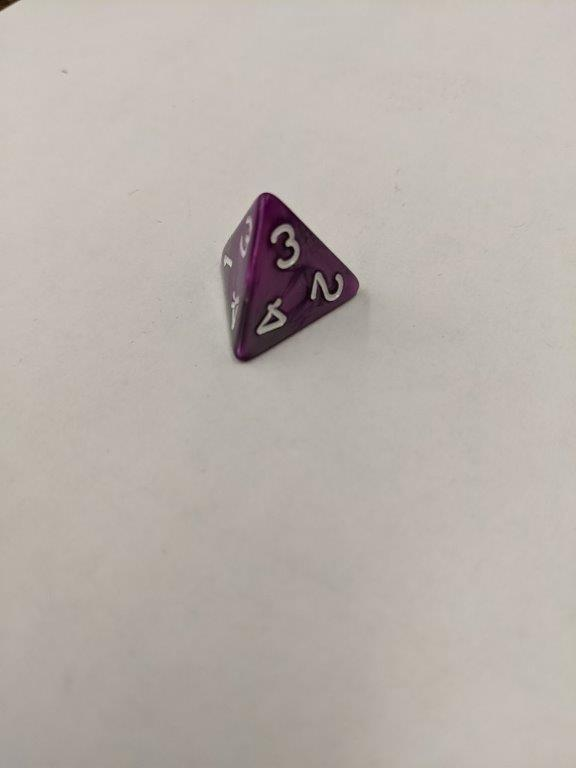d4-3: (219, 191, 364, 368)
